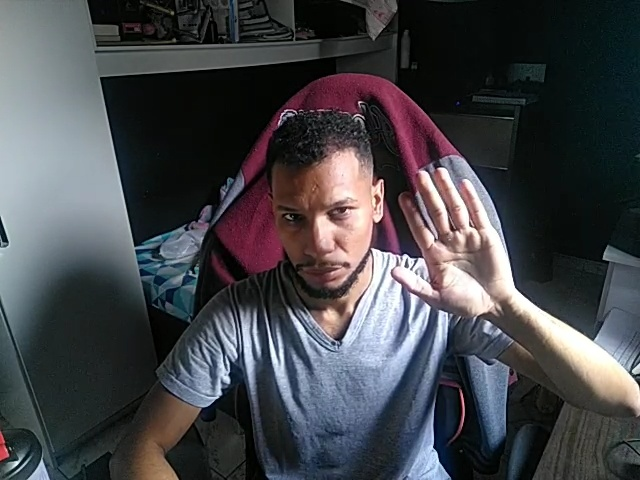oi: (382, 164, 525, 323)
